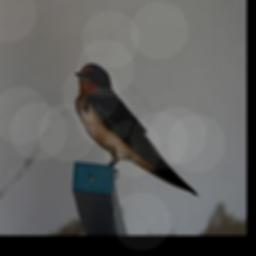Swallow: (71, 60, 200, 198)
